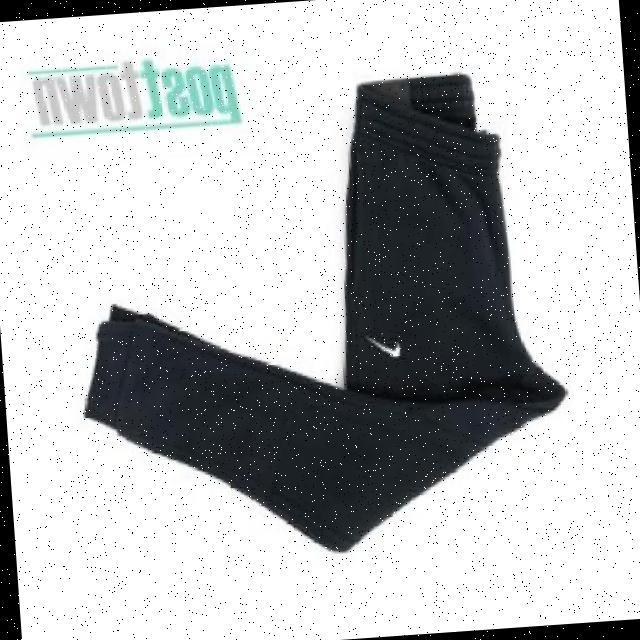Nike: (369, 329, 404, 357)
